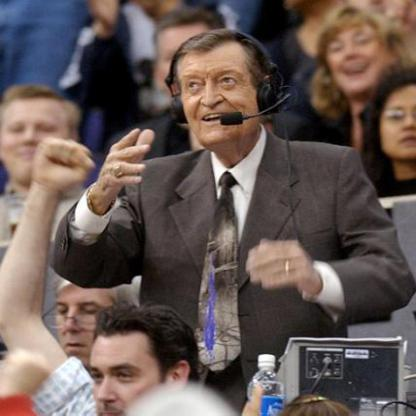face: (174, 33, 265, 148), (51, 259, 133, 367), (1, 85, 74, 186), (324, 7, 389, 96)
